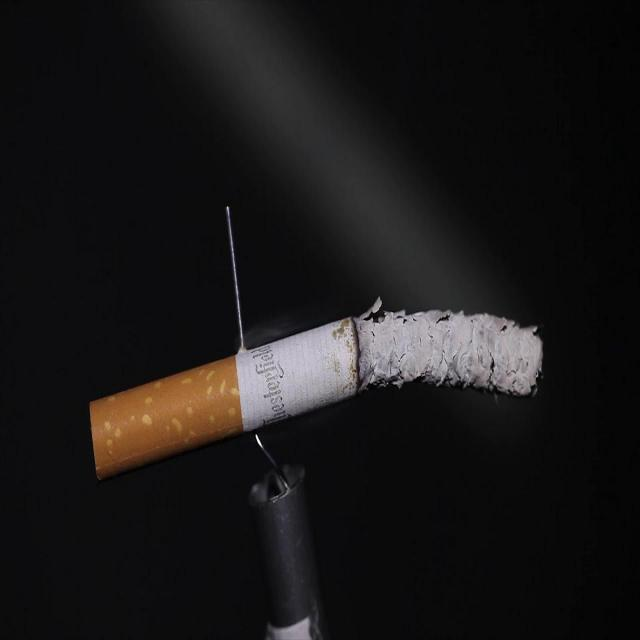cigarette: (78, 317, 390, 482)
